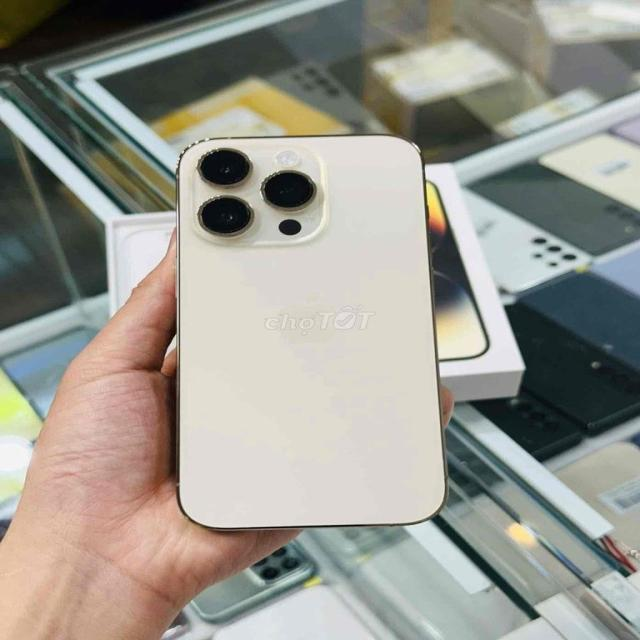gen_14: (156, 132, 455, 540)
